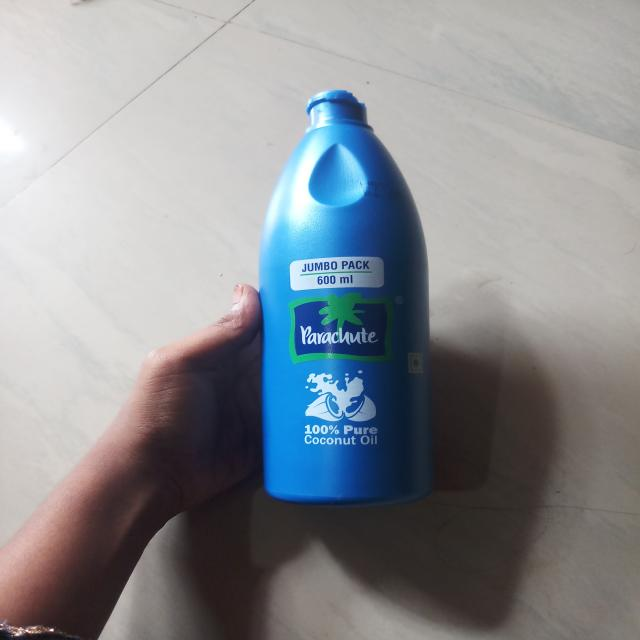parachute_oil: (254, 82, 430, 514)
